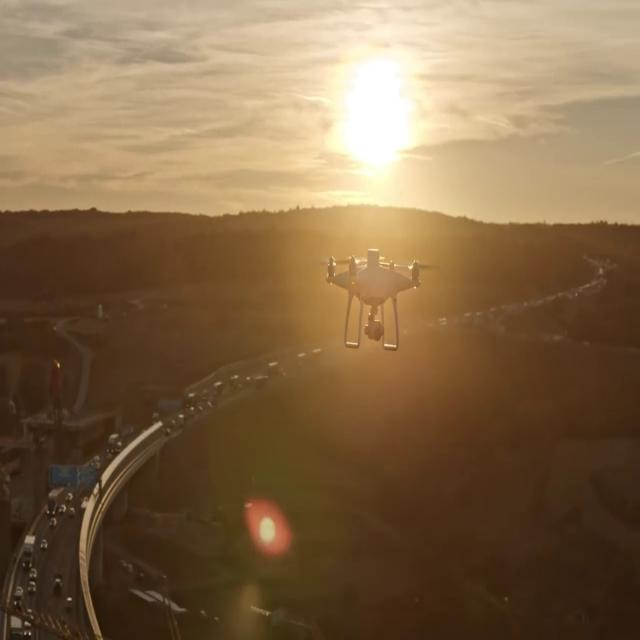drone: (311, 244, 441, 354)
